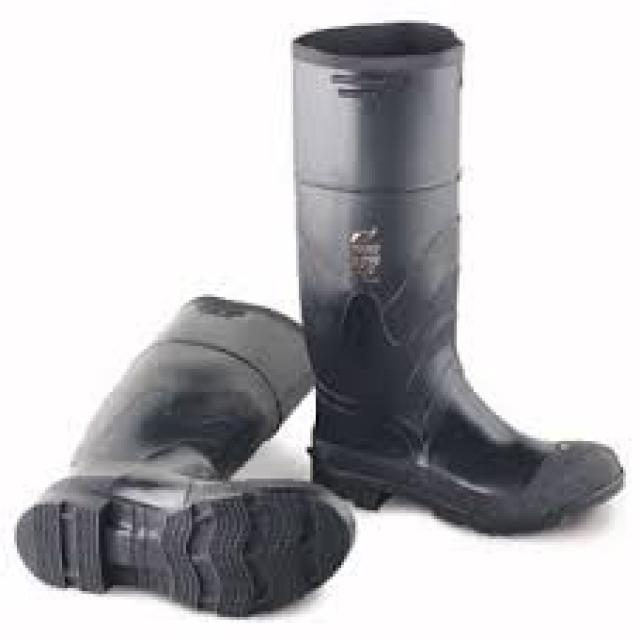shoes: (17, 26, 623, 614)
